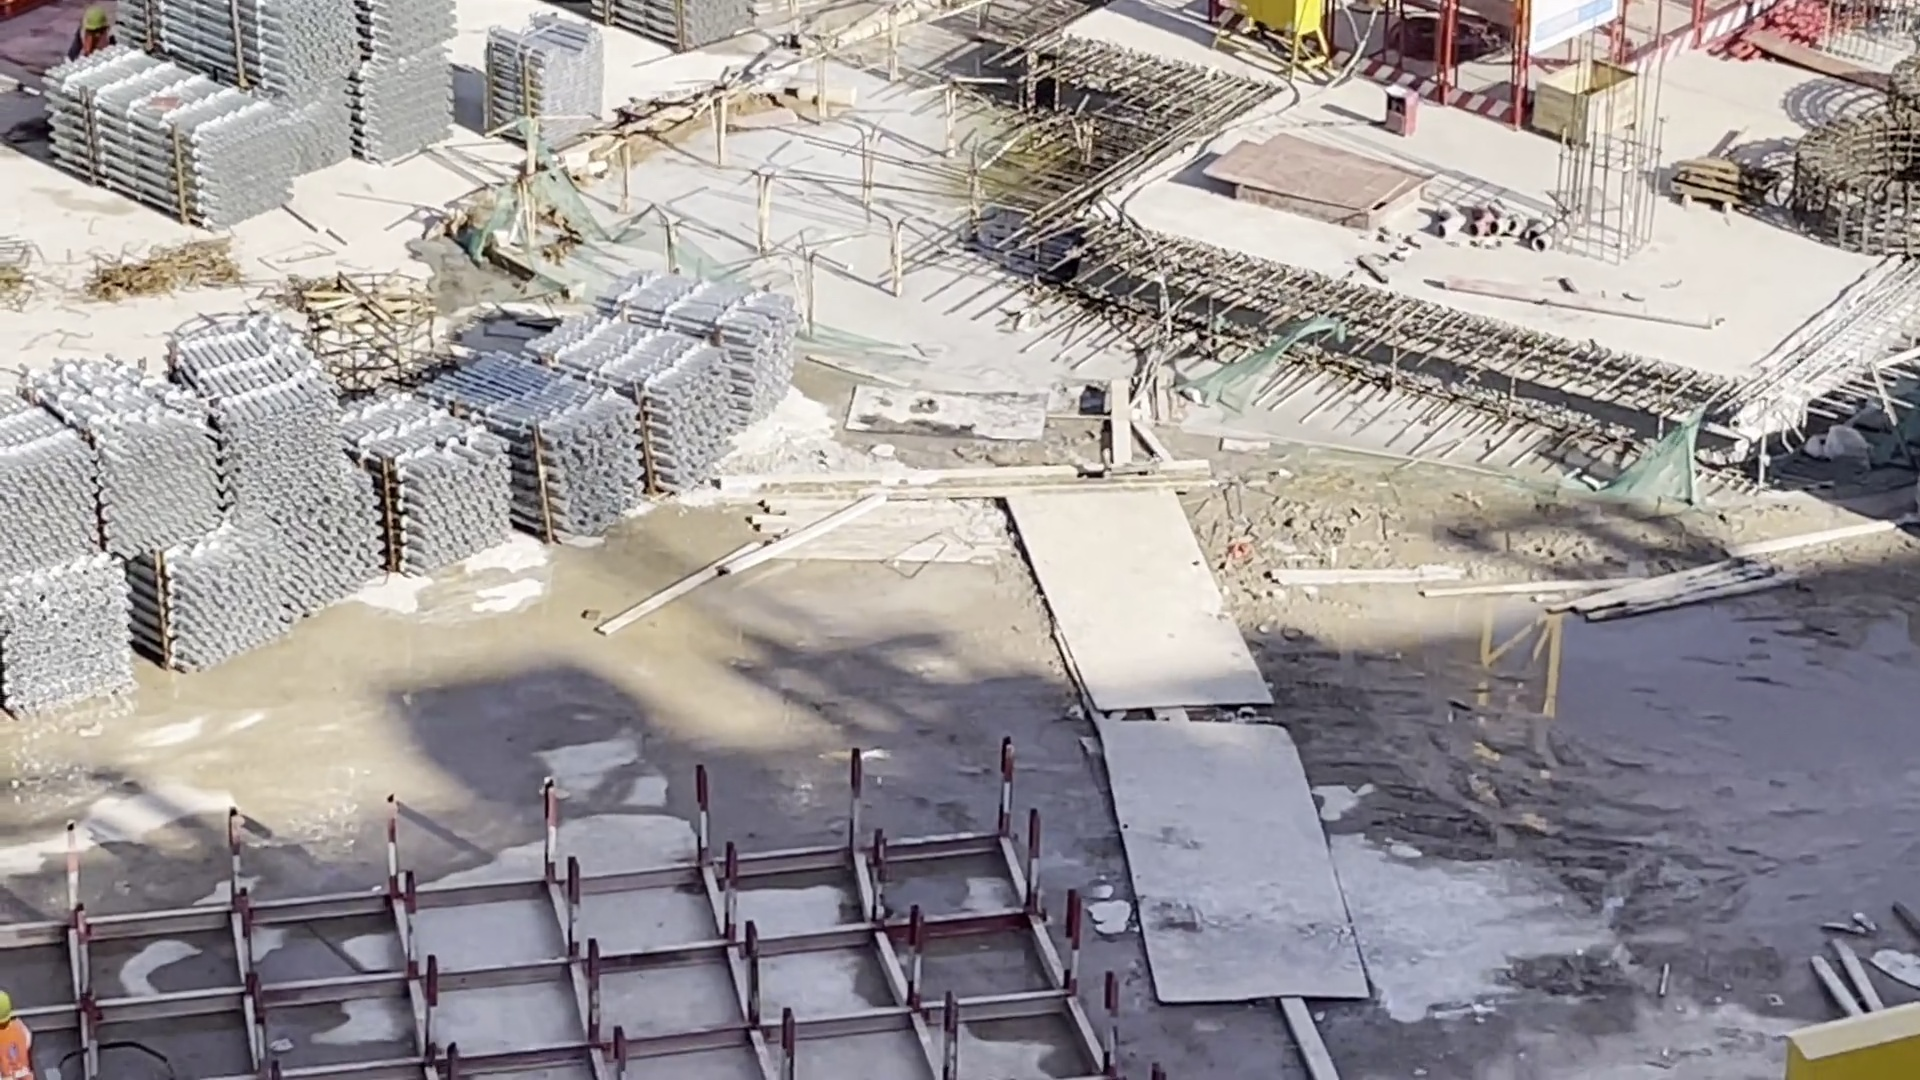board: (1201, 116, 1444, 223)
helmet: (74, 7, 113, 30)
person: (68, 2, 119, 60)
scaffold: (1, 264, 793, 720), (41, 1, 453, 227), (484, 13, 606, 148)
